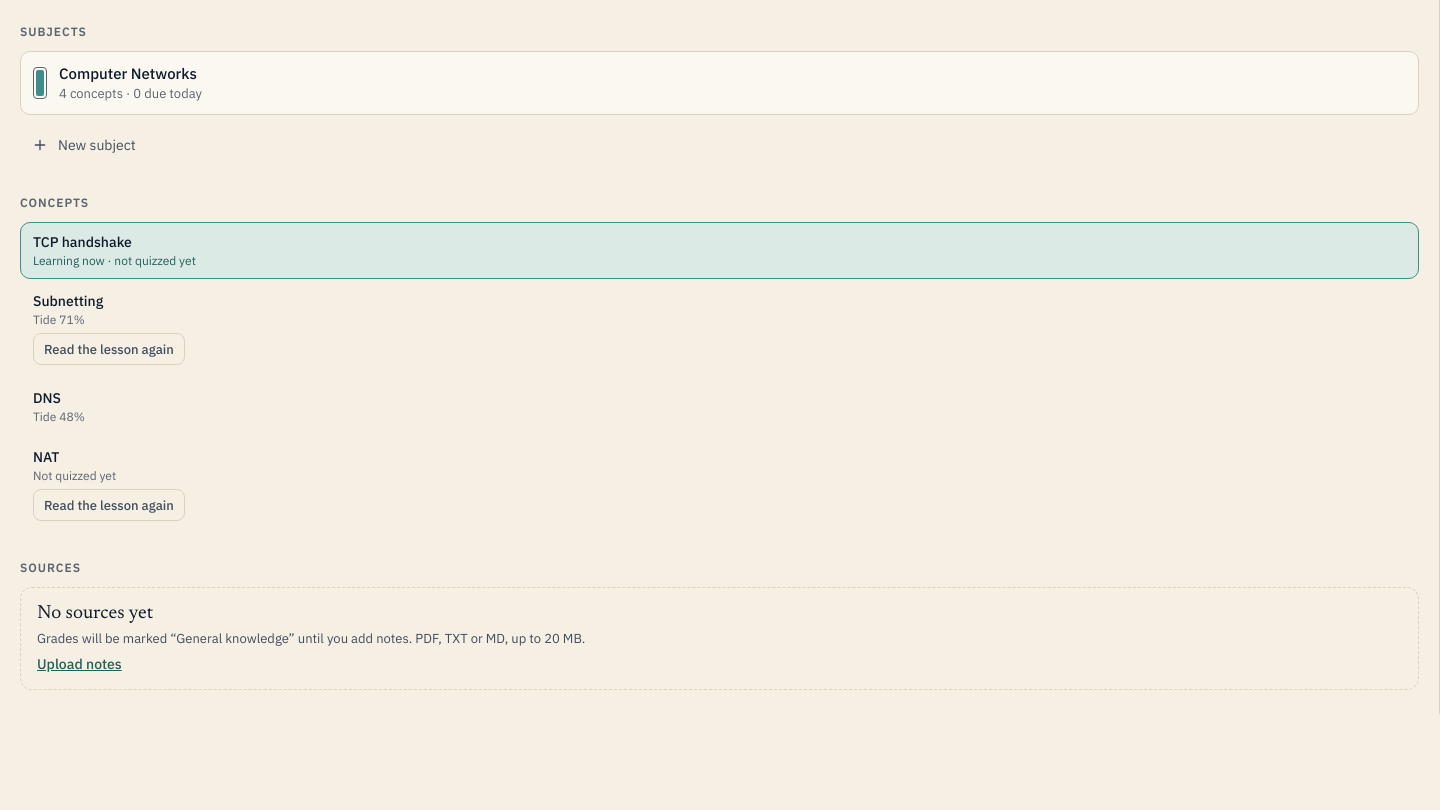
Test case: Read the lesson again › Read the lesson again shows stored exchanges
Expected: the text "Learning now · not quizzed yet" is shown, [33, 253, 196, 268]
Click the button "Read the lesson again" below "Subnetting". click: point(109, 349)
box: [33, 333, 185, 365]
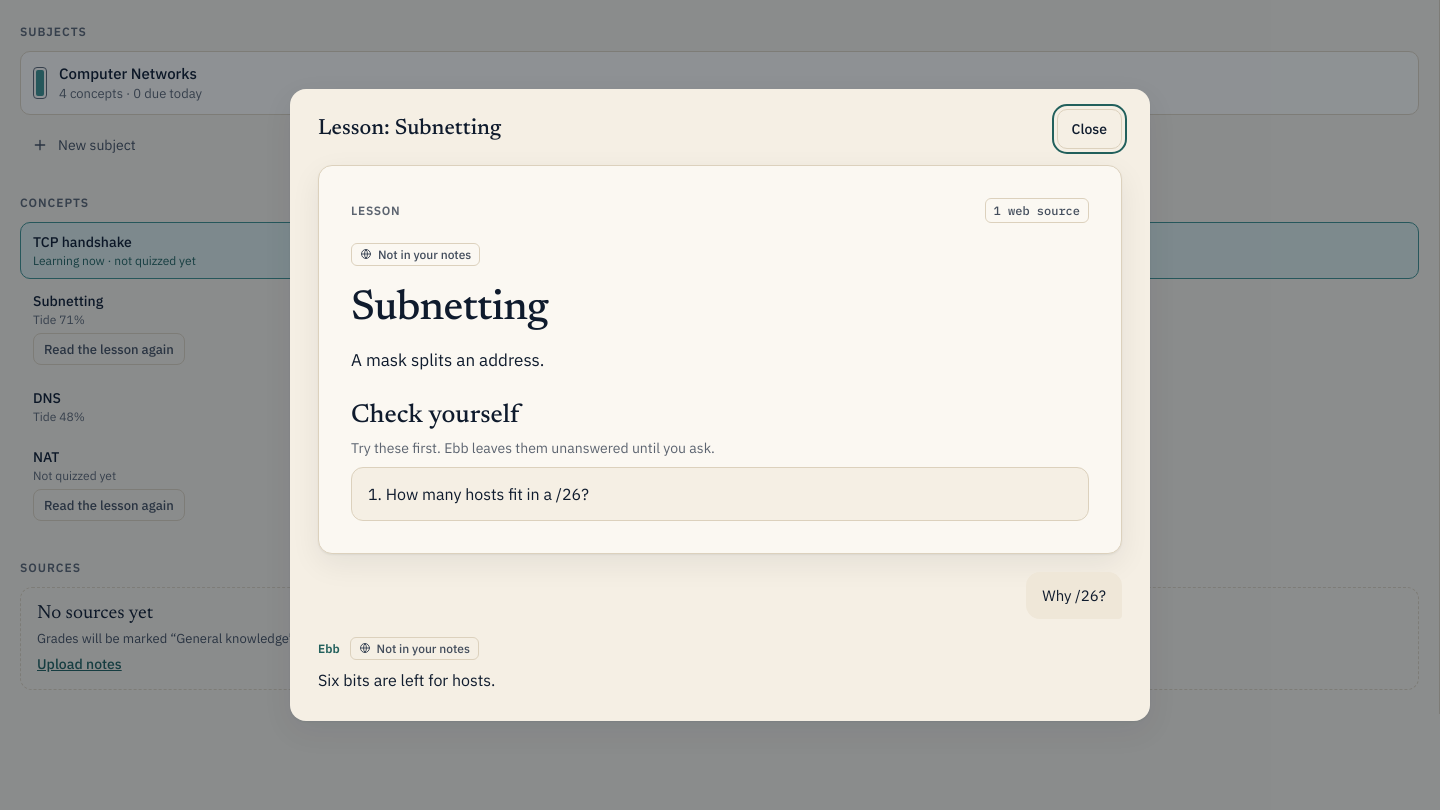
Result: the text "A mask splits an address." is shown at [351, 349, 544, 371]
Result: the text "How many hosts fit in a /26?" is shown at [386, 484, 589, 504]
Result: the text "Why /26?" is shown at [1026, 572, 1122, 619]
Press Escape
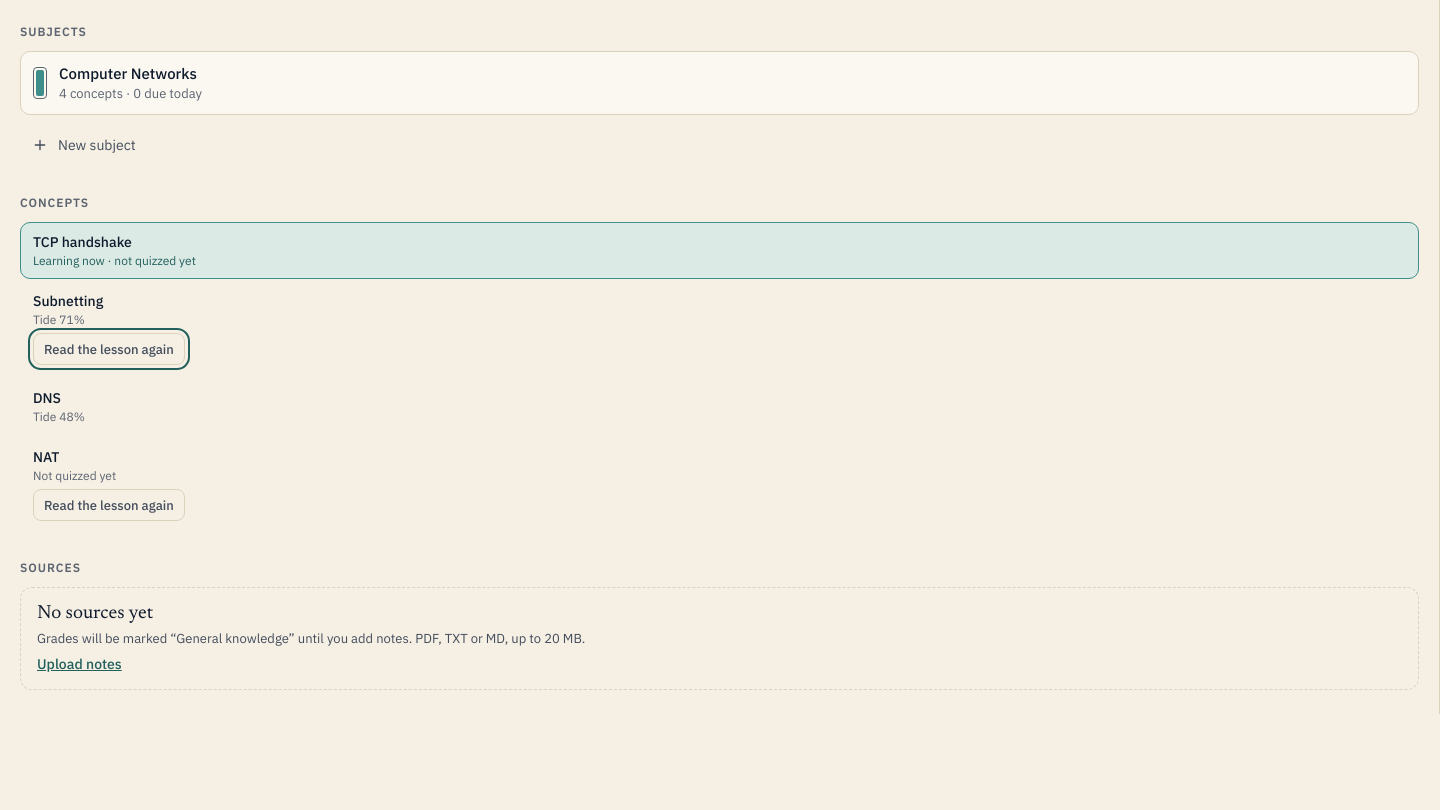
Result: the dialog is gone
